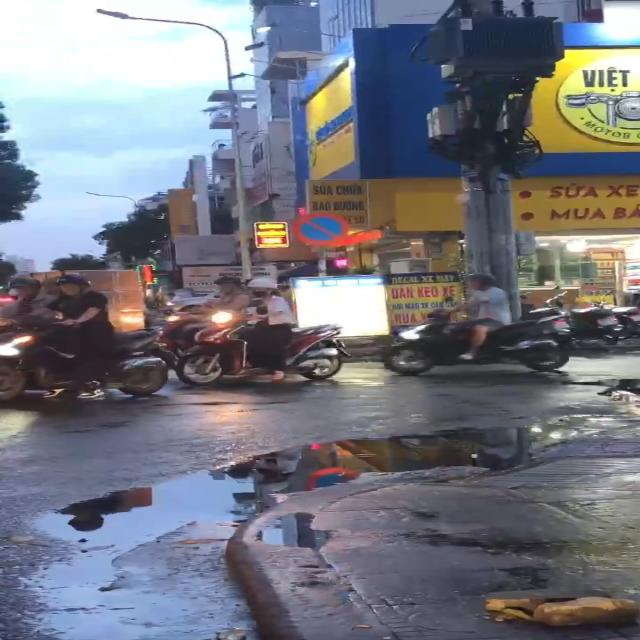Bien bao cam do xe: (285, 212, 355, 246)
